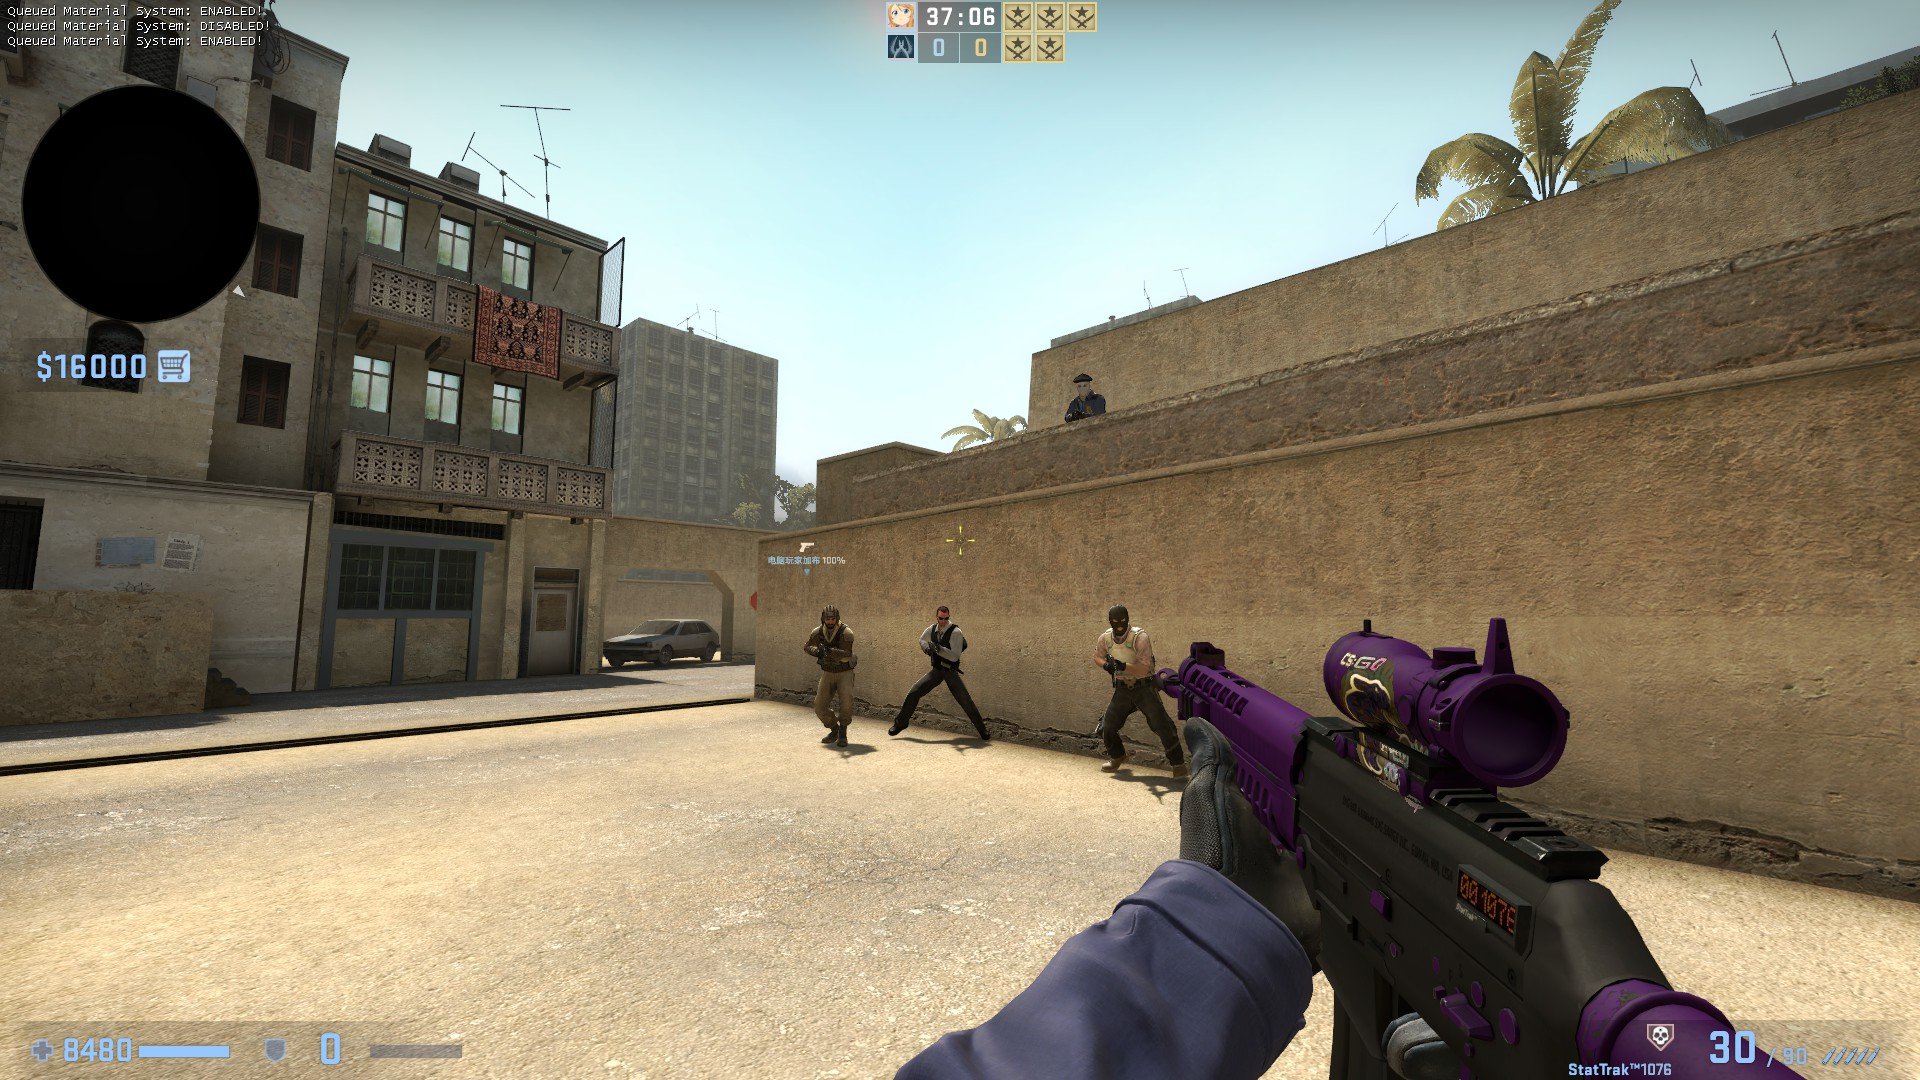head: (1106, 602, 1128, 637), (819, 602, 840, 629), (1070, 372, 1091, 397), (934, 604, 950, 627)
